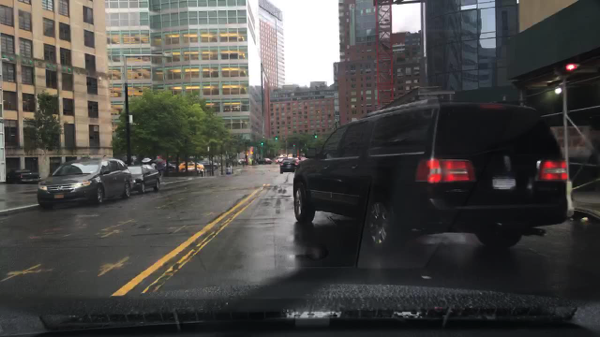car: (292, 99, 574, 255), (37, 158, 131, 209), (127, 164, 160, 193), (7, 169, 41, 184), (178, 162, 204, 171), (279, 159, 294, 174), (199, 162, 216, 172), (200, 160, 219, 168), (162, 165, 176, 172), (257, 158, 271, 165), (275, 156, 284, 164), (169, 161, 183, 166), (237, 158, 246, 164), (162, 162, 172, 167), (294, 161, 301, 167), (300, 157, 308, 162), (286, 155, 294, 160), (292, 156, 300, 160), (282, 153, 286, 158)
person: (150, 162, 157, 169), (247, 157, 251, 166), (242, 159, 245, 167), (253, 158, 256, 165), (219, 162, 221, 169)
traffic light: (128, 115, 132, 124), (313, 133, 317, 140), (260, 141, 264, 148), (274, 136, 278, 141), (291, 144, 296, 148)
